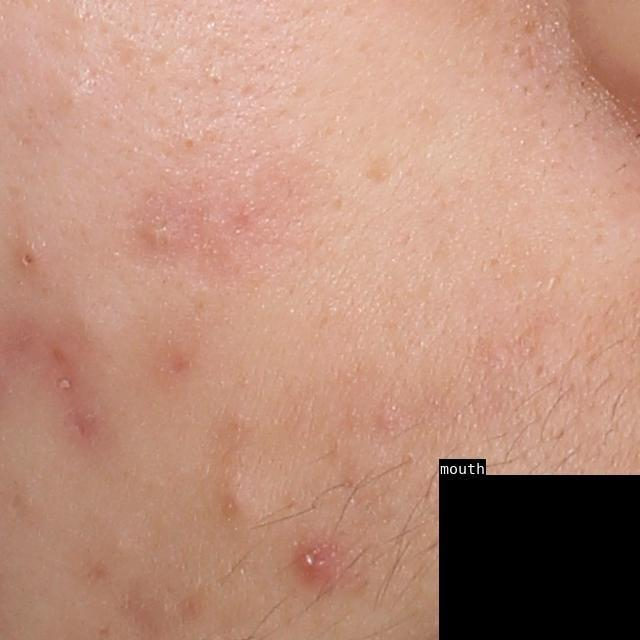comedo: (211, 479, 264, 525), (16, 248, 42, 273), (182, 135, 198, 155)
papule: (295, 538, 340, 583), (136, 215, 176, 249)
